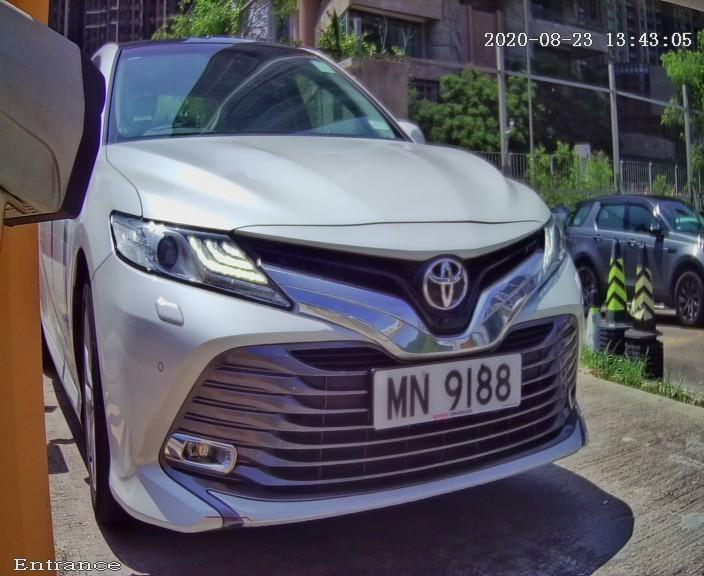Car: (13, 1, 635, 569)
License Plate: (358, 321, 564, 447)
